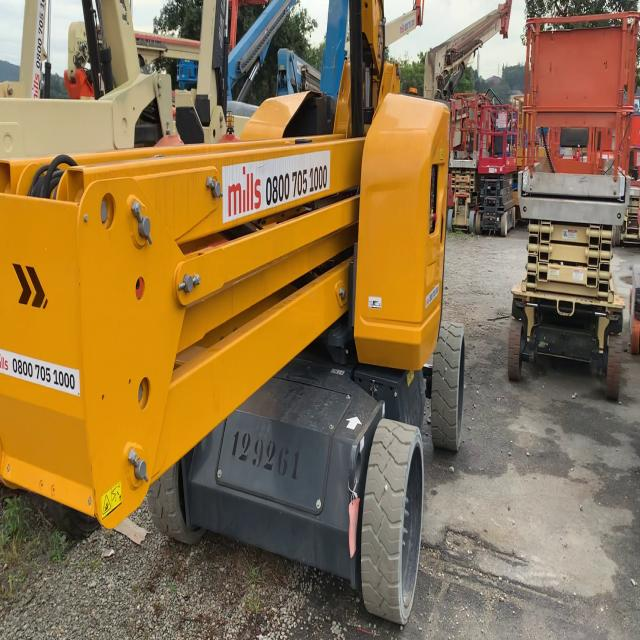Adesivo Longo: (222, 148, 331, 228)
